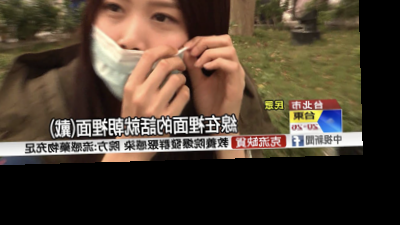mask_weared_incorrect: (77, 2, 241, 117)
